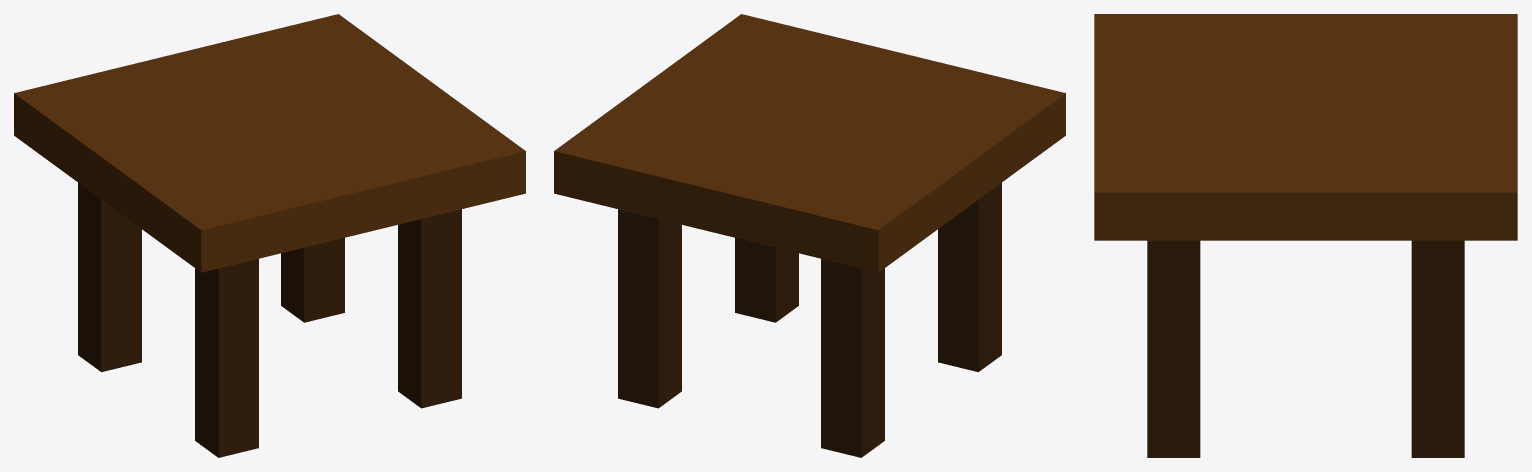
The model's file is Table1.fbx.
3 renders of one model, left to right at view 1: azimuth 30°, elevation 25°; view 2: azimuth 150°, elevation 25°; view 3: azimuth 270°, elevation 25°, orthographic. The views are drawn at different scales.
Visible parts, largest first — view 1: Table1; view 2: Table1; view 3: Table1.
Boxes of the visible parts, bbox=[...] form: Table1: bbox=[14, 14, 525, 457]; Table1: bbox=[554, 14, 1065, 457]; Table1: bbox=[1094, 14, 1517, 457].
Size of the model in its own units: 800 by 600 by 800.
